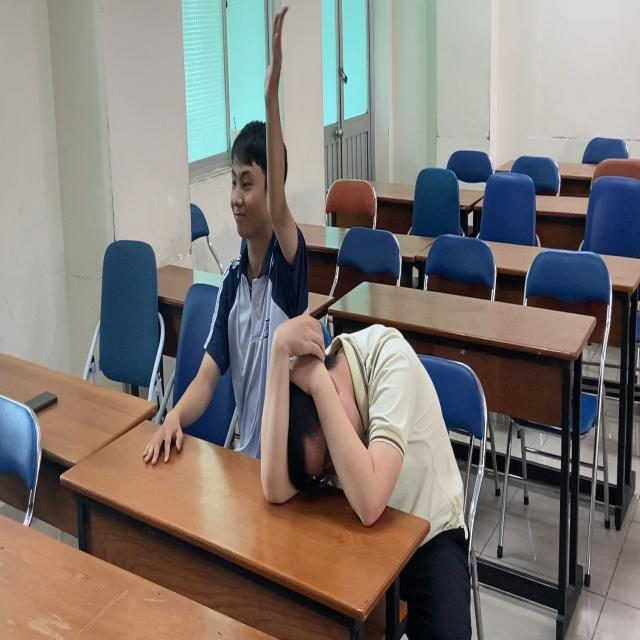sleep: (259, 305, 476, 573)
